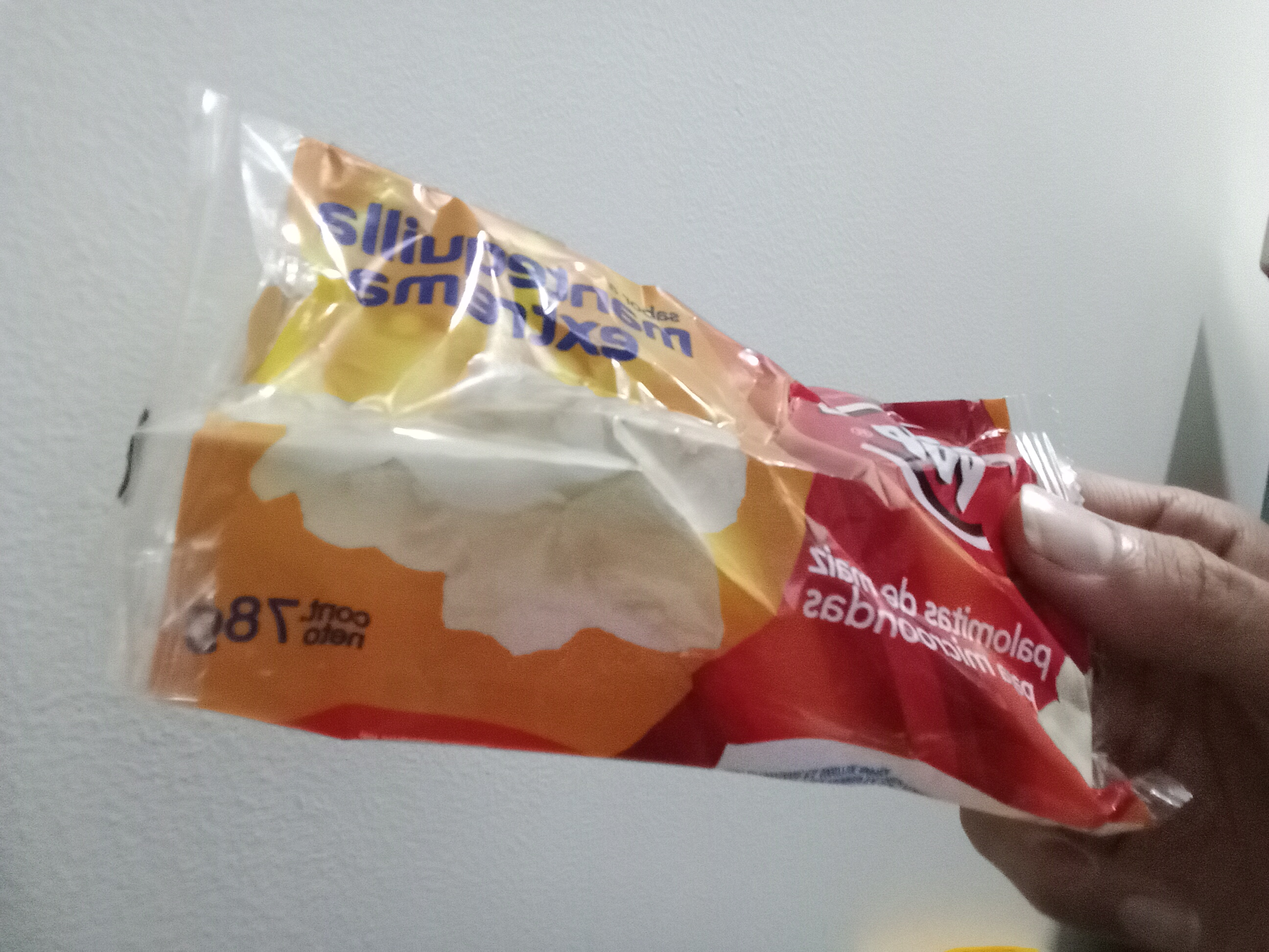Ordinario: (102, 84, 1195, 838)
